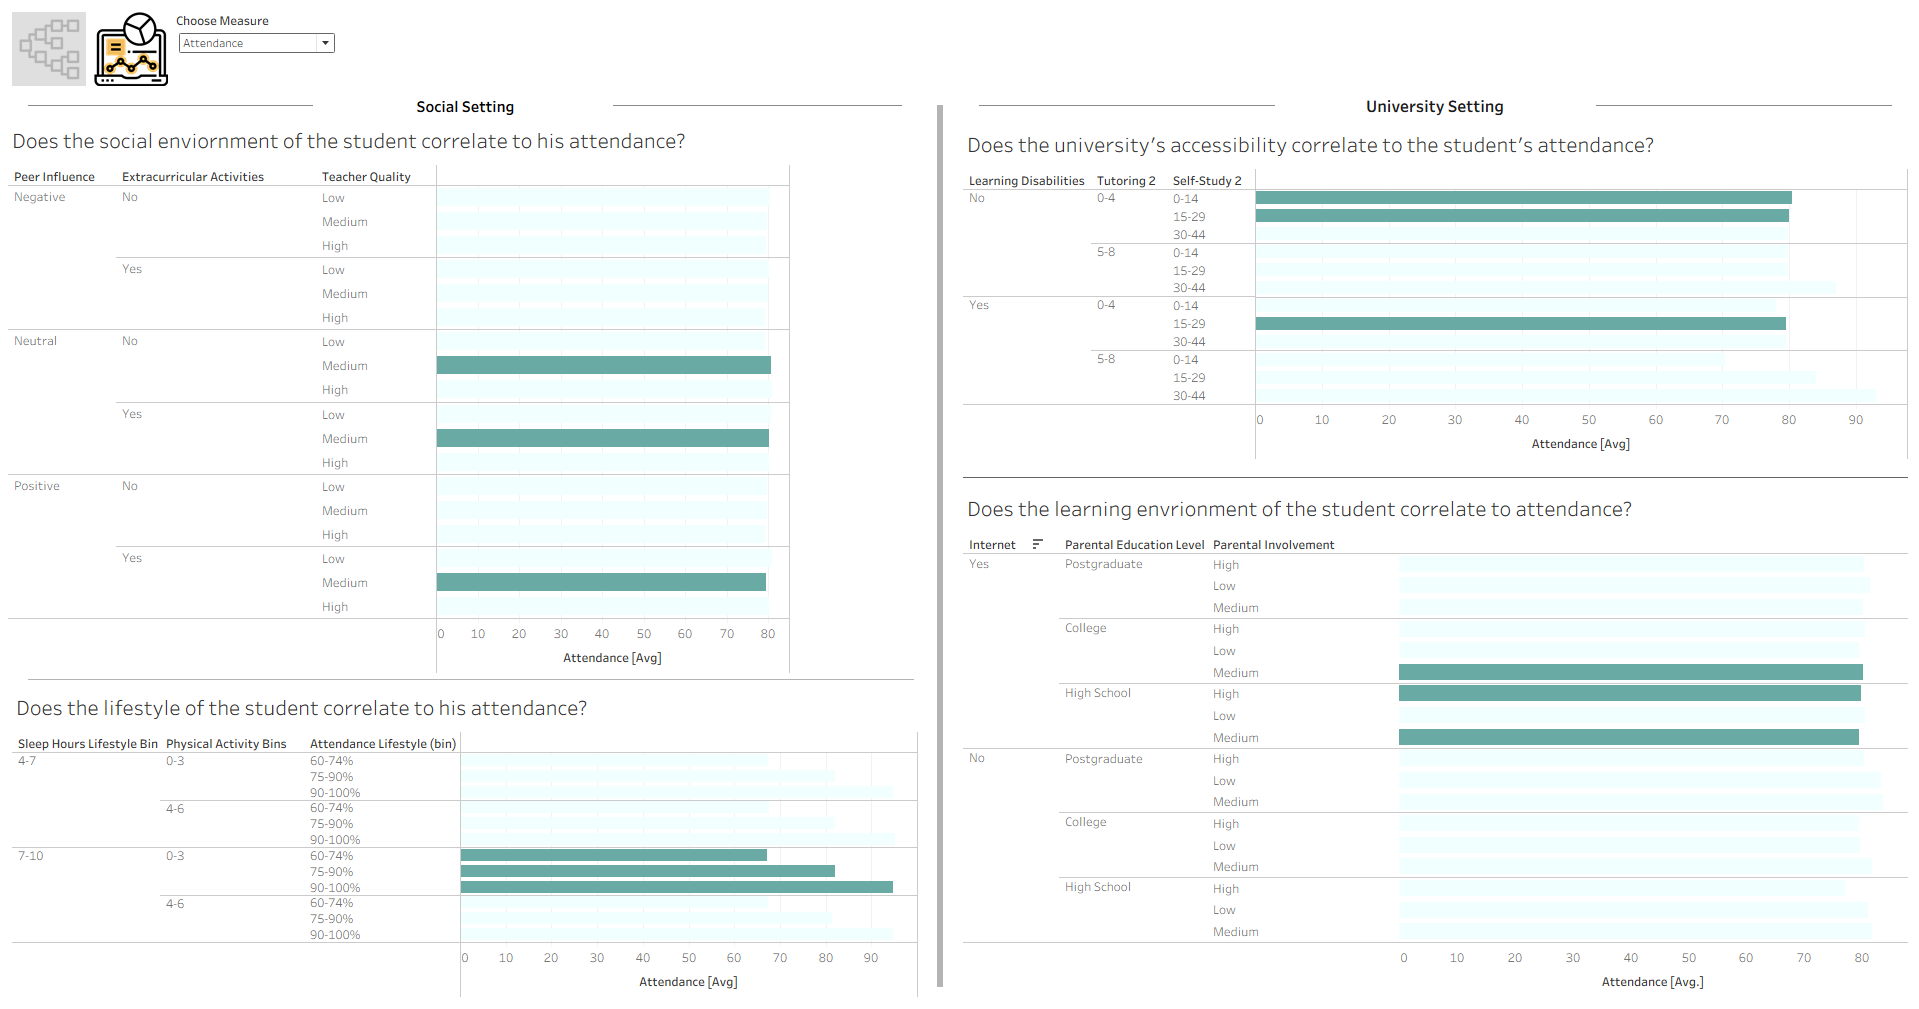

This screenshot's page, from the dashboard's own definition file:
{"tool":"tableau","page":{"name":"Clustered Dash","canvas":[1000,1000],"units":"permille","ordinal":1},"visuals":[{"type":"dashboard-object","box":[4.8,10,39.2,81.1]},{"type":"dashboard-object","box":[44.1,10,39.2,81.1]},{"type":"parameter","param":"[Parameters].[Parameter 2]","box":[83.3,10,95.4,81.1]},{"type":"blank","box":[178.7,10,816.5,81.1]},{"type":"blank","box":[4.8,91.1,160.1,40]},{"type":"text","box":[164.9,91.1,155.3,40]},{"type":"blank","box":[320.2,91.1,160.1,40]},{"type":"blank","box":[499.6,91.1,166,40]},{"type":"text","box":[665.6,91.1,163.6,40]},{"type":"blank","box":[829.2,91.1,166,40]},{"type":"worksheet","title":"Social Environment","mark":"Bar","rows":["Peer_Influence","Extracurricular_Activities","Teacher_Quality"],"cols":["Calculation_1205838847883902981"],"box":[4.8,131,475.5,449.5]},{"type":"worksheet","title":"Accessibility","mark":"Bar","rows":["Learning_Disabilities","Tutoring (copy)_1205838848046997528","Self-Study (copy)_1205838848047247385"],"cols":["Calculation_1205838847883902981"],"box":[499.6,131,495.6,415.8]},{"type":"blank","box":[499.6,546.8,495.6,27.5]},{"type":"worksheet","title":"Learning Environment","mark":"Bar","rows":["Internet_Access","Parental_Education_Level","Parental_Involvement"],"cols":["Calculation_1205838847883902981"],"box":[499.6,574.2,495.6,415.8]},{"type":"blank","box":[4.8,580.5,475.5,13.7]},{"type":"worksheet","title":"Student Lifestyle","mark":"Bar","rows":["Sleep Hours Lifestyle (bin)","Physical Activity Lifestyle (bin)","Attendance Lifestyle (bin)"],"cols":["Calculation_1205838847883902981"],"box":[4.8,594.2,475.5,395.8]}]}

Visuals, with their boxes on the dashboard's canvas, which has no fixed pixel size, in thousandths of its width and height (x1, y1, x2, y2). These are canvas units, not pixel positions in the 1919x1009 screenshot, which may show the page scaled, cropped or inside an application window:
dashboard-object: (5,10,44,91)
dashboard-object: (44,10,83,91)
parameter: (83,10,179,91)
blank: (179,10,995,91)
blank: (5,91,165,131)
text: (165,91,320,131)
blank: (320,91,480,131)
blank: (500,91,666,131)
text: (666,91,829,131)
blank: (829,91,995,131)
"Social Environment" worksheet (Bar marks): (5,131,480,580)
"Accessibility" worksheet (Bar marks): (500,131,995,547)
blank: (500,547,995,574)
"Learning Environment" worksheet (Bar marks): (500,574,995,990)
blank: (5,580,480,594)
"Student Lifestyle" worksheet (Bar marks): (5,594,480,990)
